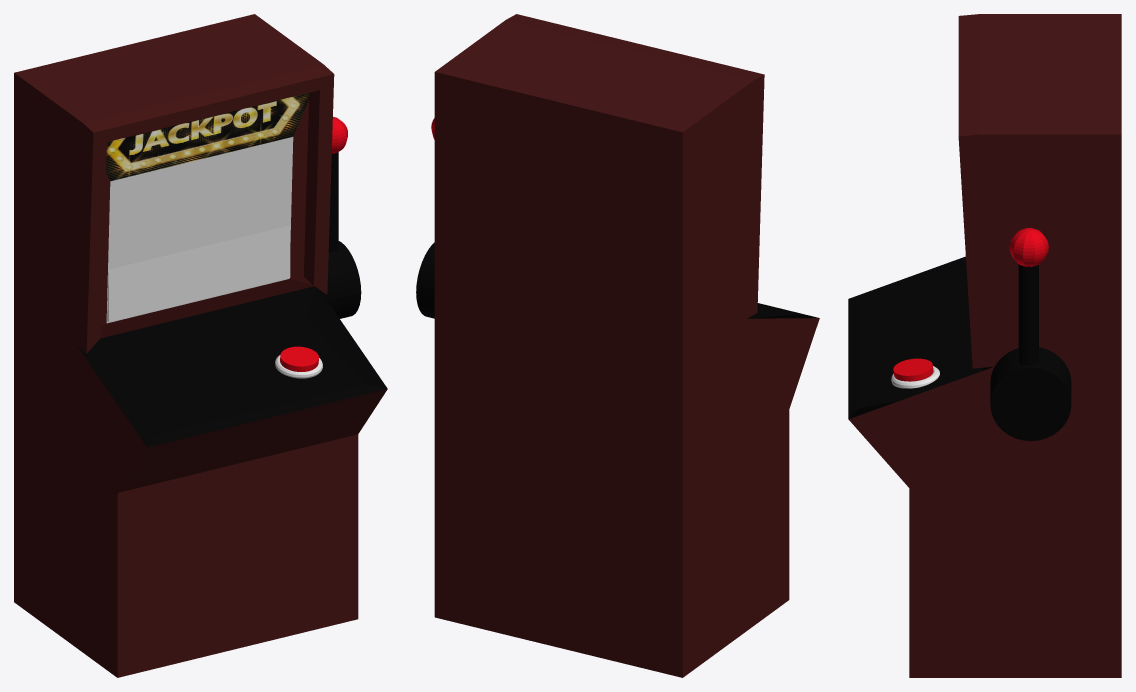
The model's file is Tragaperrasroja.glb.
3 views of the same model, side by side, from view 1: azimuth 30°, elevation 25°; view 2: azimuth 150°, elevation 25°; view 3: azimuth 270°, elevation 25° (orthographic). The views are drawn at different scales.
Parts seen in each view (by area): view 1: perraRoja.001, pantallaRoja, manillaRoja.001, bolaPalancaRoja.001, botonRojo.001; view 2: perraRoja.001, manillaRoja.001; view 3: perraRoja.001, manillaRoja.001, bolaPalancaRoja.001, botonRojo.001, Toroide.003.
Part boxes in pixels (x1,y1,x2,y2): perraRoja.001: [14, 14, 387, 677]; pantallaRoja: [107, 225, 290, 321]; manillaRoja.001: [320, 241, 361, 318]; bolaPalancaRoja.001: [328, 117, 347, 252]; botonRojo.001: [280, 346, 318, 371]; perraRoja.001: [434, 14, 819, 677]; manillaRoja.001: [416, 242, 434, 318]; perraRoja.001: [848, 14, 1121, 677]; manillaRoja.001: [990, 347, 1071, 440]; bolaPalancaRoja.001: [1009, 228, 1048, 365]; botonRojo.001: [893, 358, 933, 381]; Toroide.003: [891, 366, 939, 388].
Size of the model in its own units: 22.07 by 39.03 by 17.77.
Materials: 7 (1 with a texture image).
